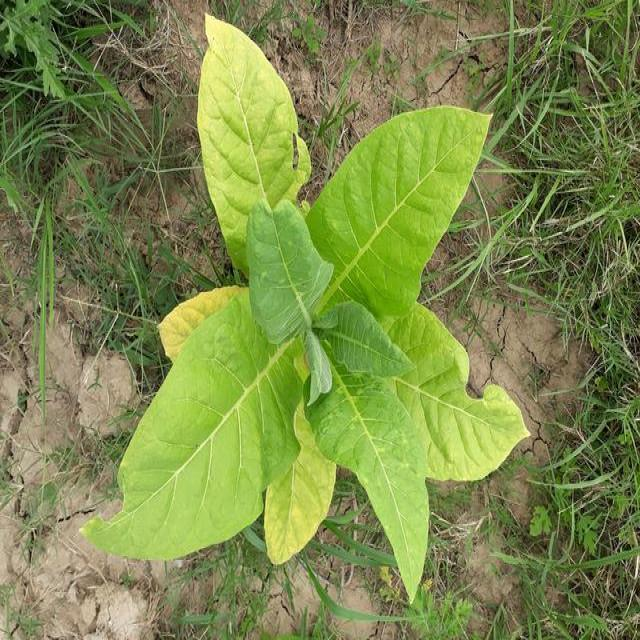crop: (113, 26, 519, 614)
